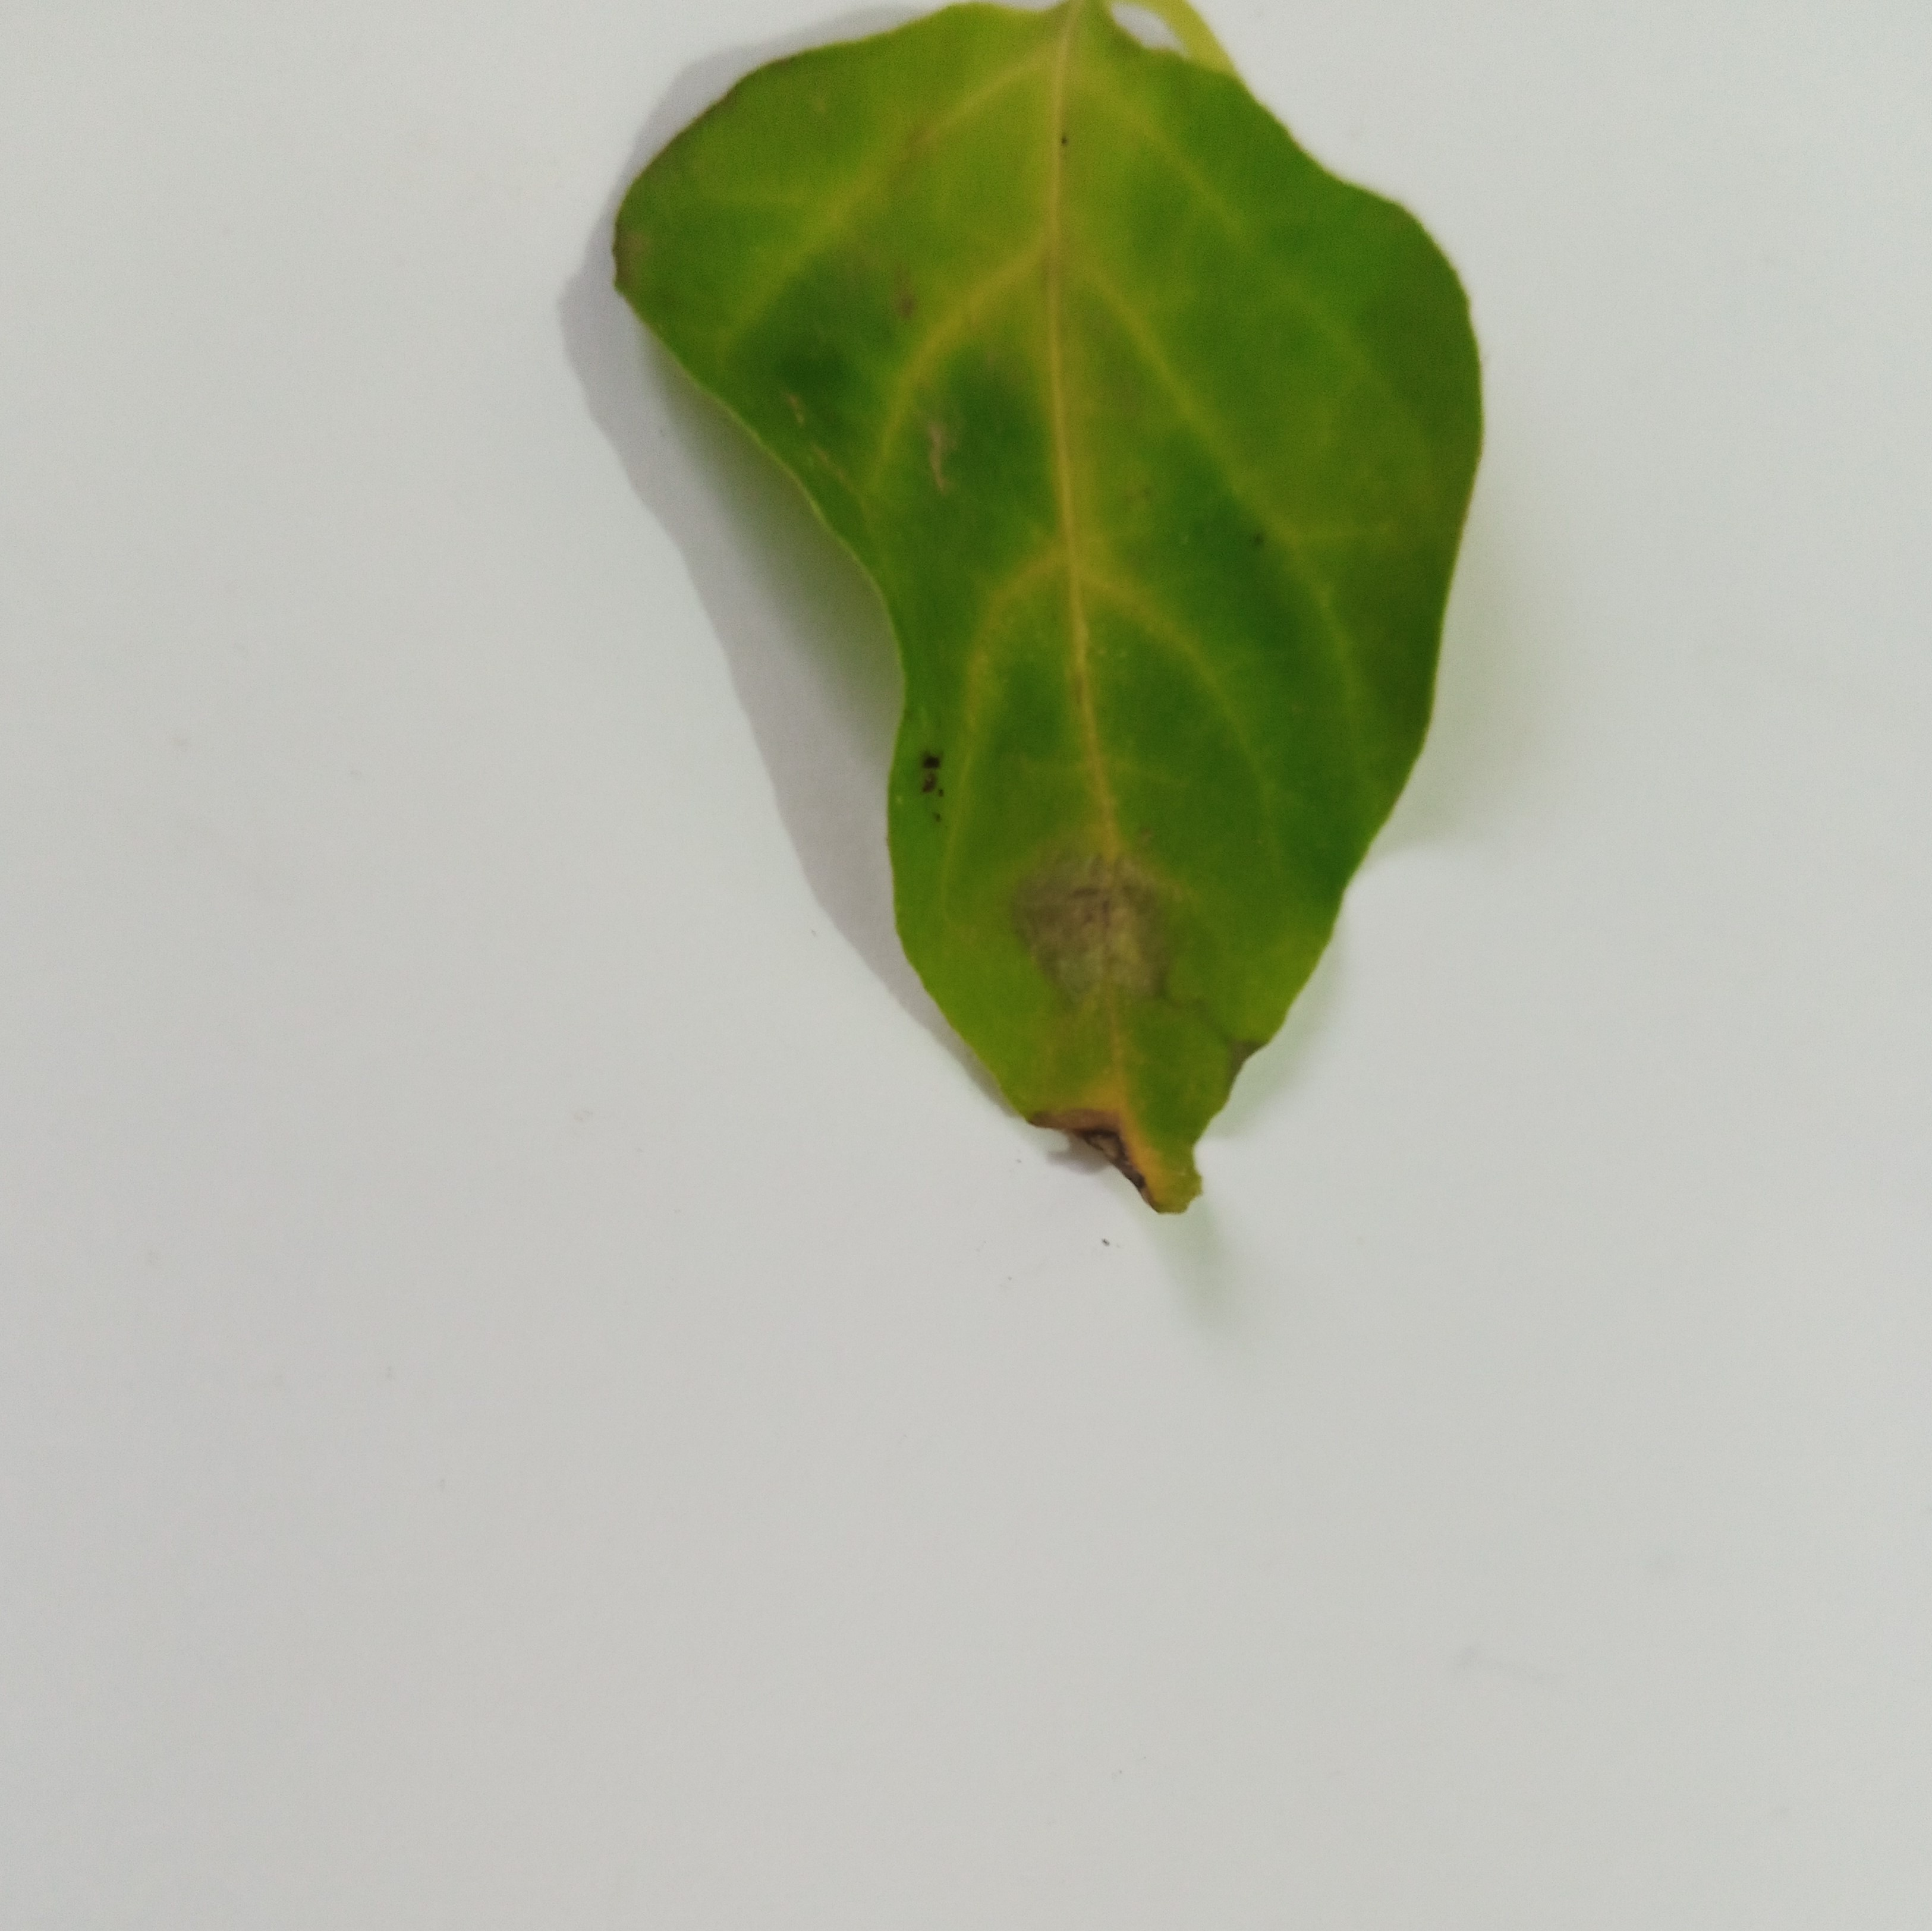Leaf: (525, 2, 1546, 1312)
